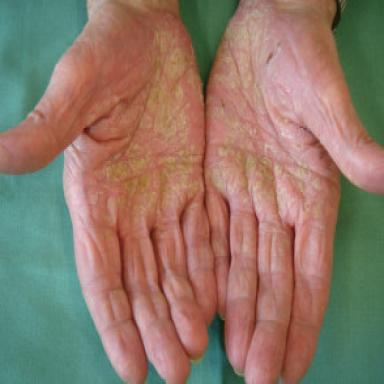eczema: (205, 8, 323, 222), (96, 24, 198, 230)
